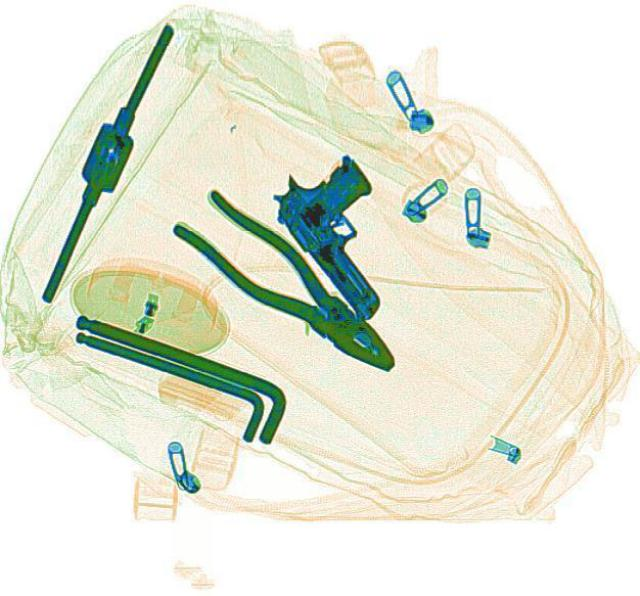Gun: (255, 144, 442, 321)
Pliers: (166, 182, 417, 386)
